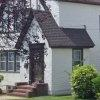stairs: (10, 83, 37, 98)
